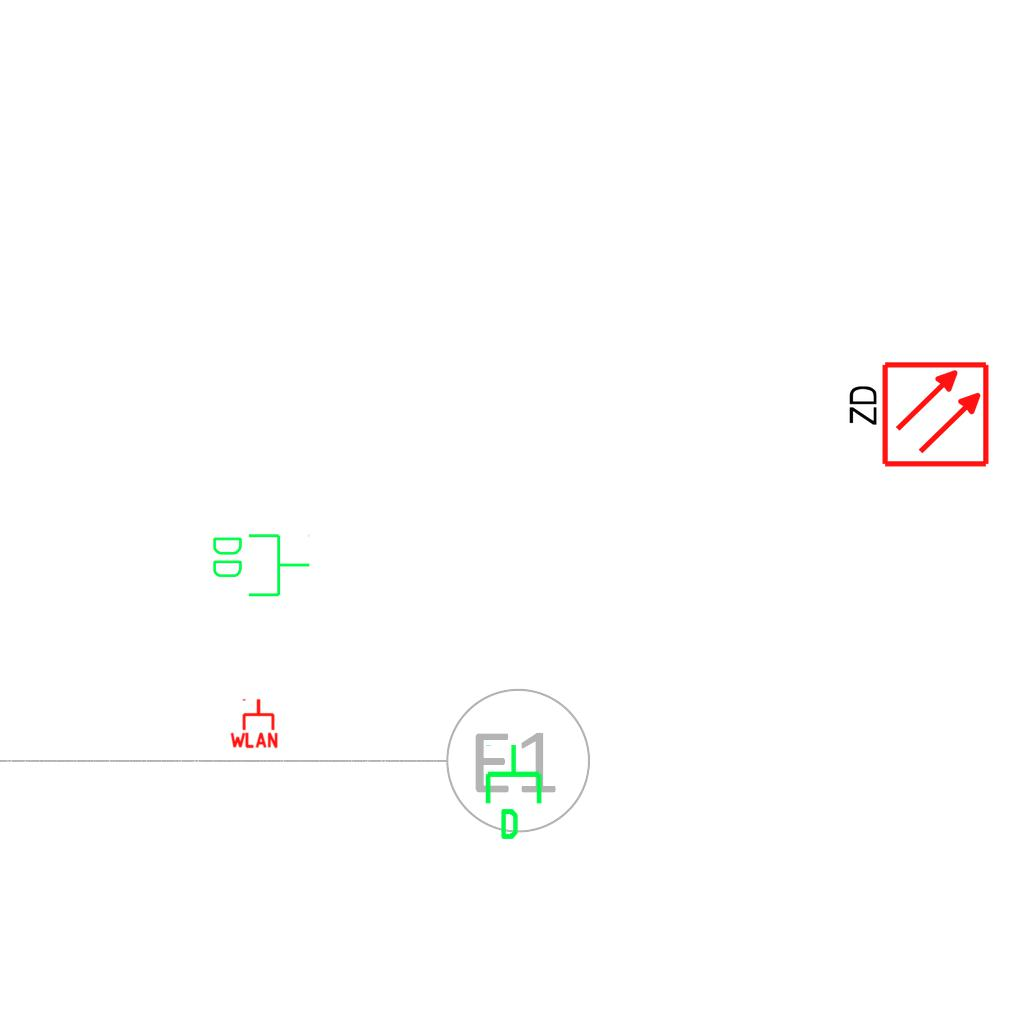Datenanschluss_einfach: (481, 742, 550, 842)
Datenanschluss_zweifach: (209, 530, 312, 599)
WLAN: (228, 697, 280, 749)
ZD_Melder_in_Zwischendecke_mit_Revisionsoeffnung_mind_40_x_40_cm: (842, 359, 991, 473)
